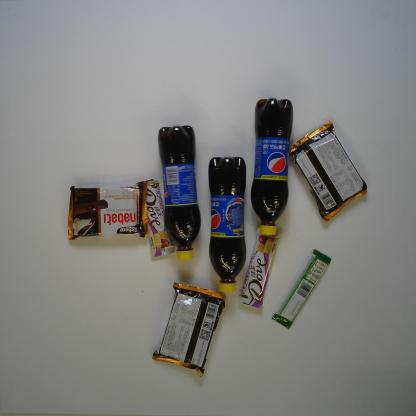Chocolate: (271, 248, 332, 331), (238, 225, 282, 309), (143, 179, 176, 258)
Dessert: (289, 120, 371, 222), (151, 281, 227, 378), (66, 180, 149, 241)
Drink: (250, 97, 294, 236), (157, 124, 201, 261), (207, 155, 248, 294)
